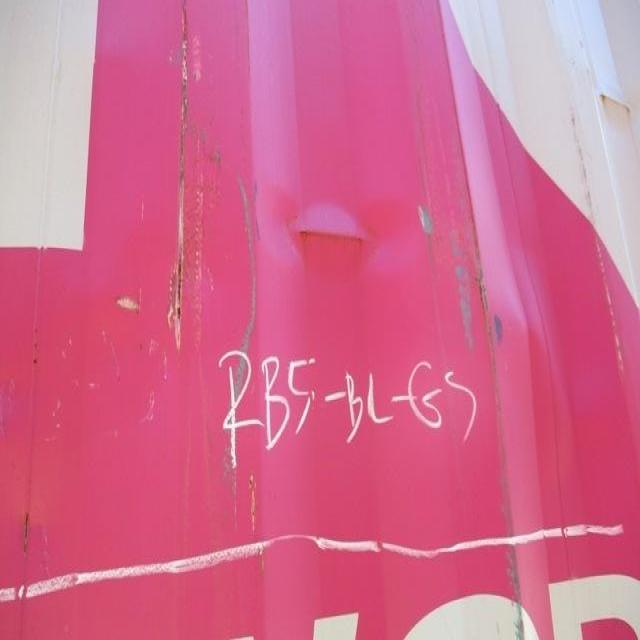dent: (487, 262, 639, 549), (237, 146, 448, 333)
